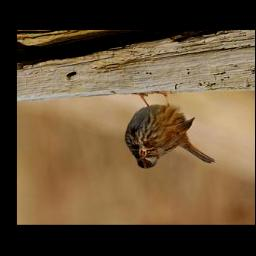Sparrow: (126, 91, 218, 170)
